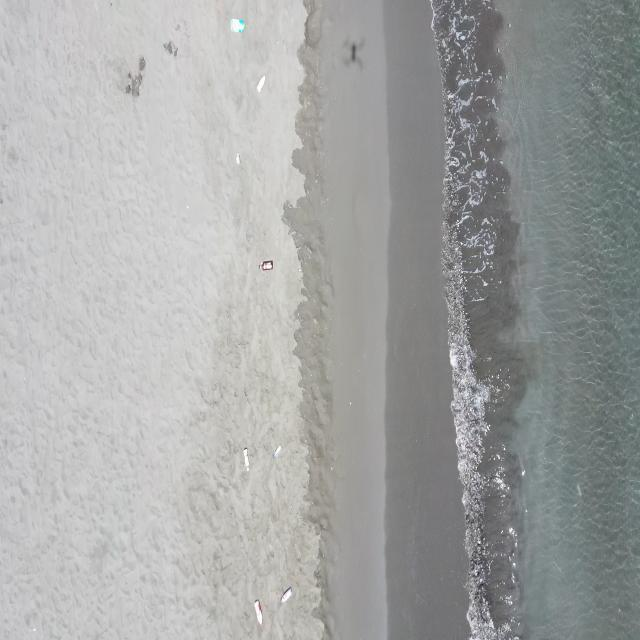plastic-bottle: (253, 598, 264, 626), (231, 17, 248, 35), (279, 587, 293, 605), (242, 447, 250, 473), (258, 260, 274, 272), (256, 74, 267, 91), (273, 444, 282, 459), (235, 152, 241, 166)
